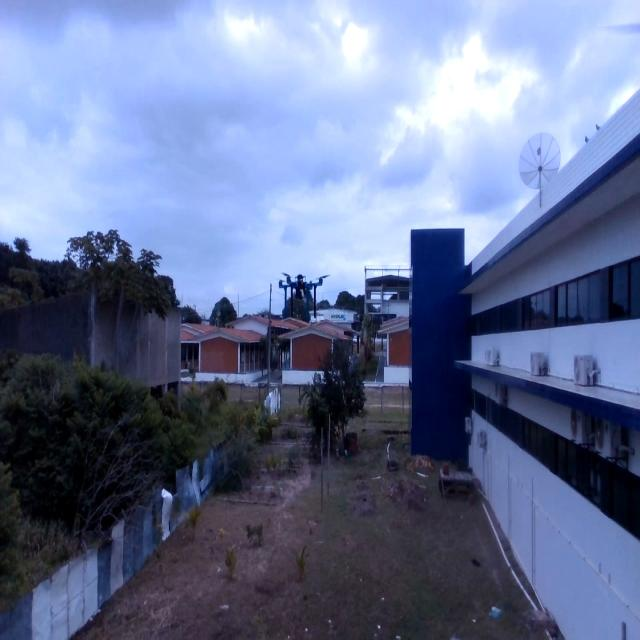-uav-: (272, 262, 332, 335)
